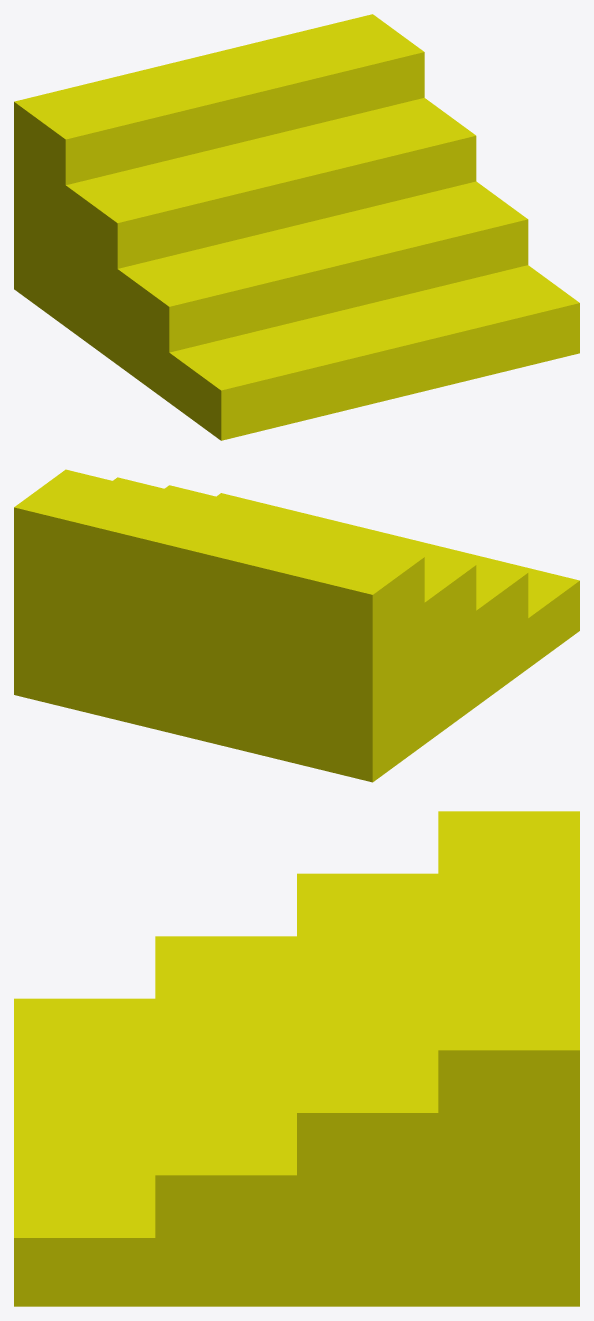
File: SM_Buildings_Stairs_1x1_01.glb
3 renders of one model, top to bottom at view 1: azimuth 30°, elevation 25°; view 2: azimuth 150°, elevation 25°; view 3: azimuth 270°, elevation 25°, orthographic. The views are drawn at different scales.
Visible parts, largest first — view 1: SM_Buildings_Stairs_1x1_01; view 2: SM_Buildings_Stairs_1x1_01; view 3: SM_Buildings_Stairs_1x1_01.
Boxes of the visible parts, <box> form: SM_Buildings_Stairs_1x1_01: <box>14,14,579,440</box>; SM_Buildings_Stairs_1x1_01: <box>14,469,579,782</box>; SM_Buildings_Stairs_1x1_01: <box>14,811,579,1306</box>.
Bounding box in the file's own units: 1 × 0.4995 × 1.
Materials: 1 (1 with a texture image).
